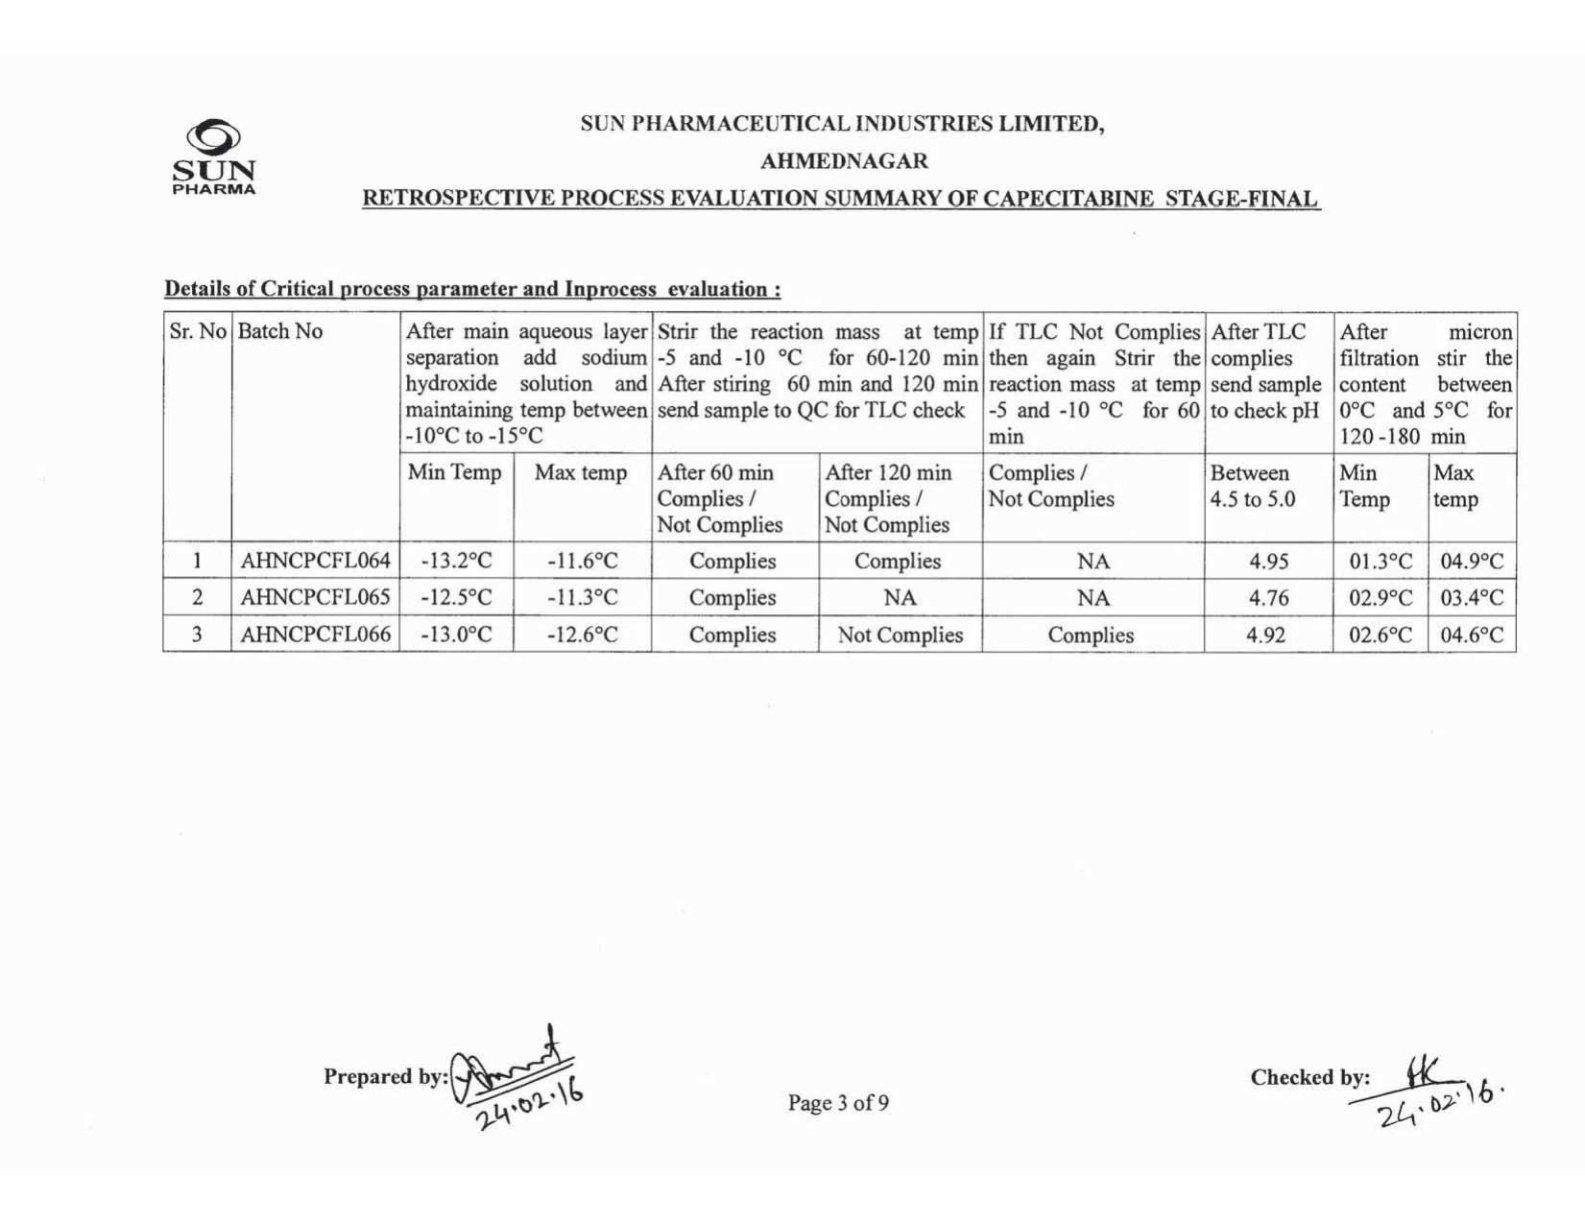merged_cells: (161, 310, 1517, 653)
